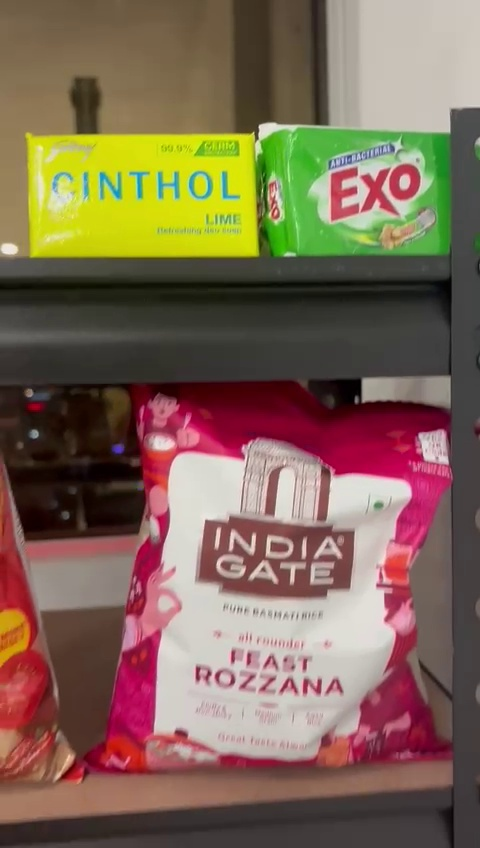Cinthol: (26, 134, 255, 258)
Exo Soap: (259, 126, 453, 255)
India Gate Feast Rozzana: (110, 390, 455, 769)
